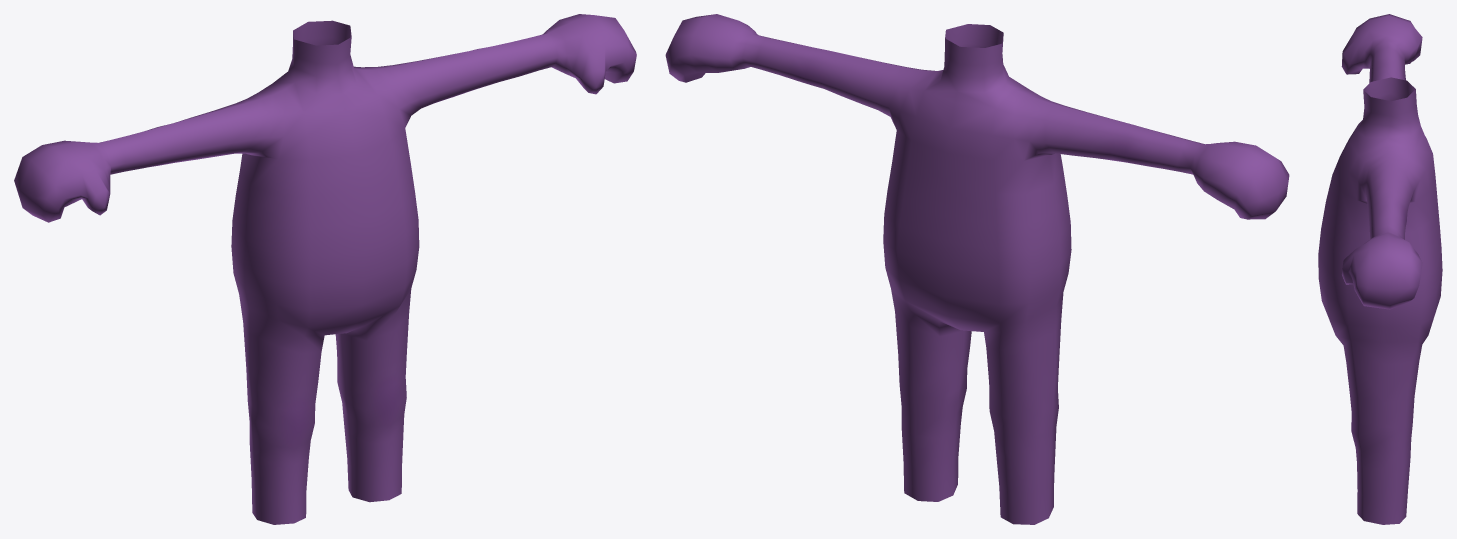
Rendered from Body_Purple_3.fbx.
3 renders of one model, left to right at view 1: azimuth 30°, elevation 25°; view 2: azimuth 150°, elevation 25°; view 3: azimuth 270°, elevation 25°, orthographic. The views are drawn at different scales.
Visible parts, largest first — view 1: Body_Purple_3; view 2: Body_Purple_3; view 3: Body_Purple_3.
Boxes of the visible parts, x1,y1,x2,y2 form: Body_Purple_3: [14, 14, 636, 524]; Body_Purple_3: [665, 14, 1289, 524]; Body_Purple_3: [1318, 14, 1442, 524].
Size of the model in its own units: 130 by 95.87 by 26.46.
